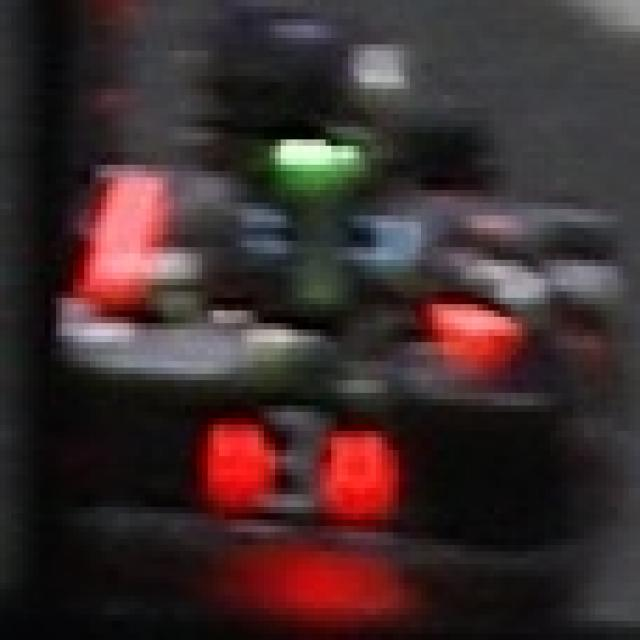R3: (182, 396, 412, 535), (404, 171, 556, 380)
